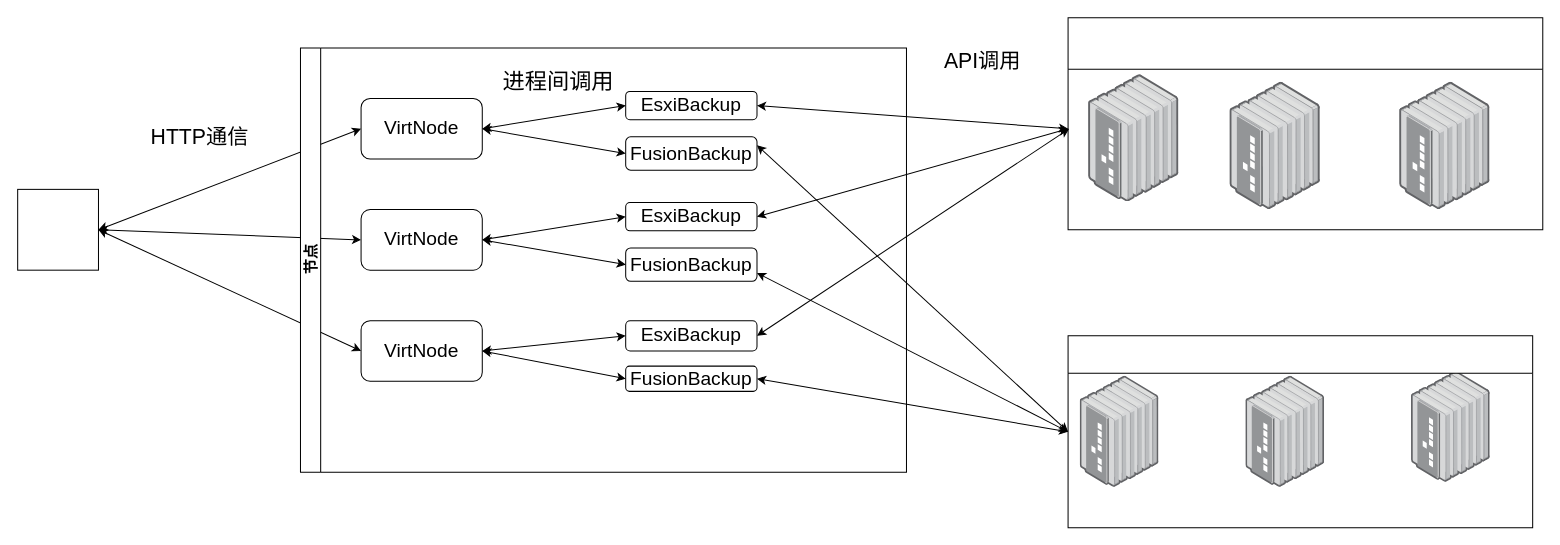
Image size: 1560x545. Some labels were removed from this diagram. The shapes that lost their labels are listed below. From the top down, each one's centre as x and y in pixels, then its label:
(x=1305, y=123): Esxi集群
(x=57, y=229): VirtManage
(x=1300, y=431): 华为集群
